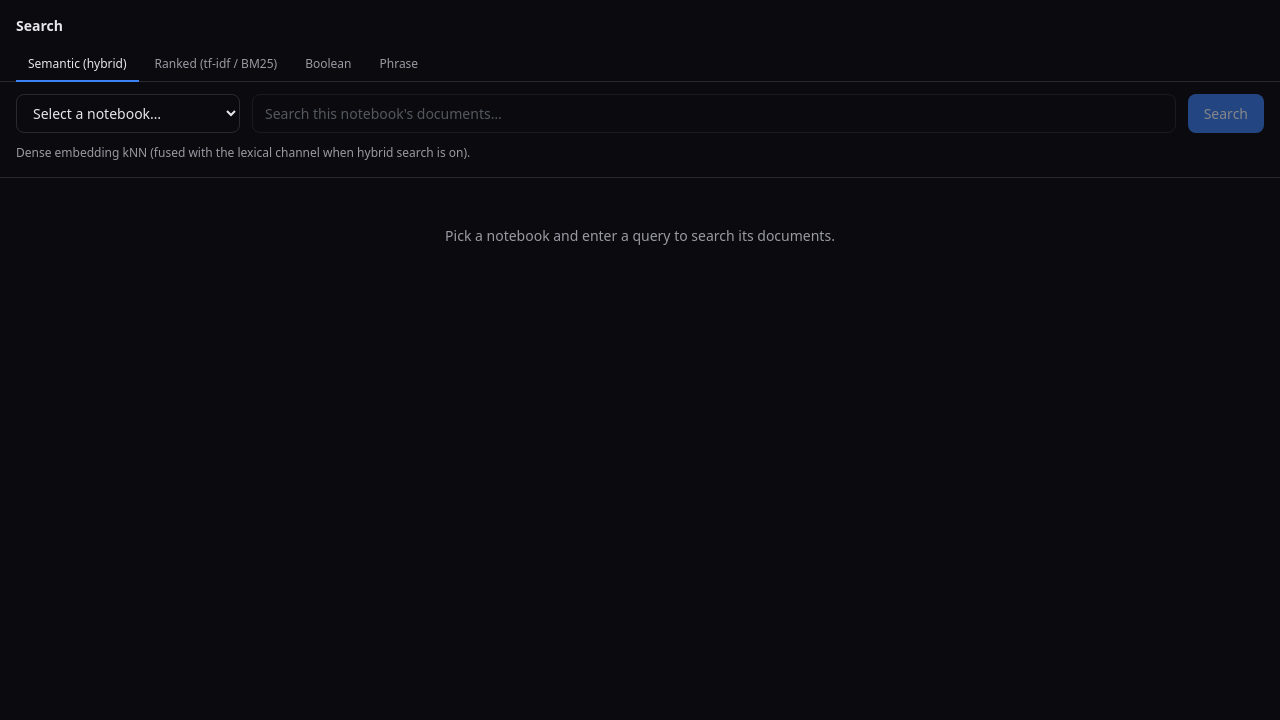
SearchPage › runs a Boolean query against /retrieval/sparse-search and shows the merge trace
Click the tab "Boolean": (328, 65) [293,48,363,82]
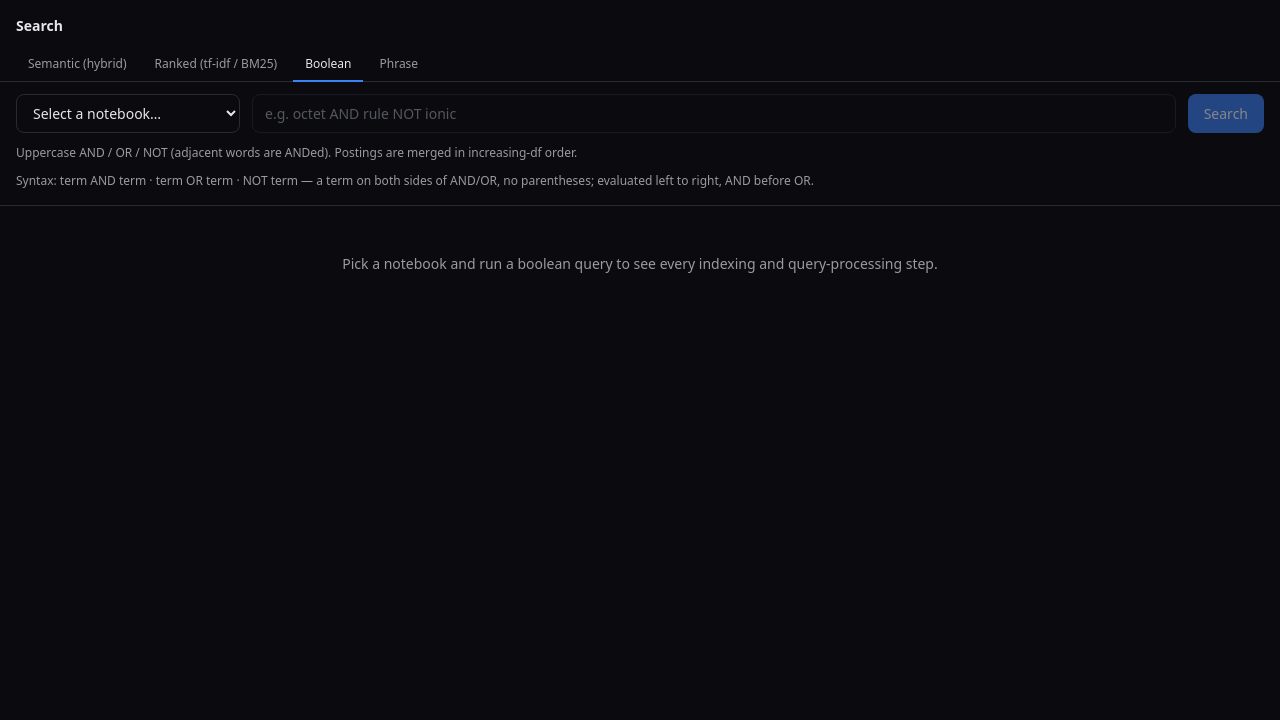
Expected: the text "Postings are merged in increasing-df order" is shown, [16,144,577,161]
Select "Chemistry" in the dropdown named "Notebook": (128, 114) [16,94,240,133]
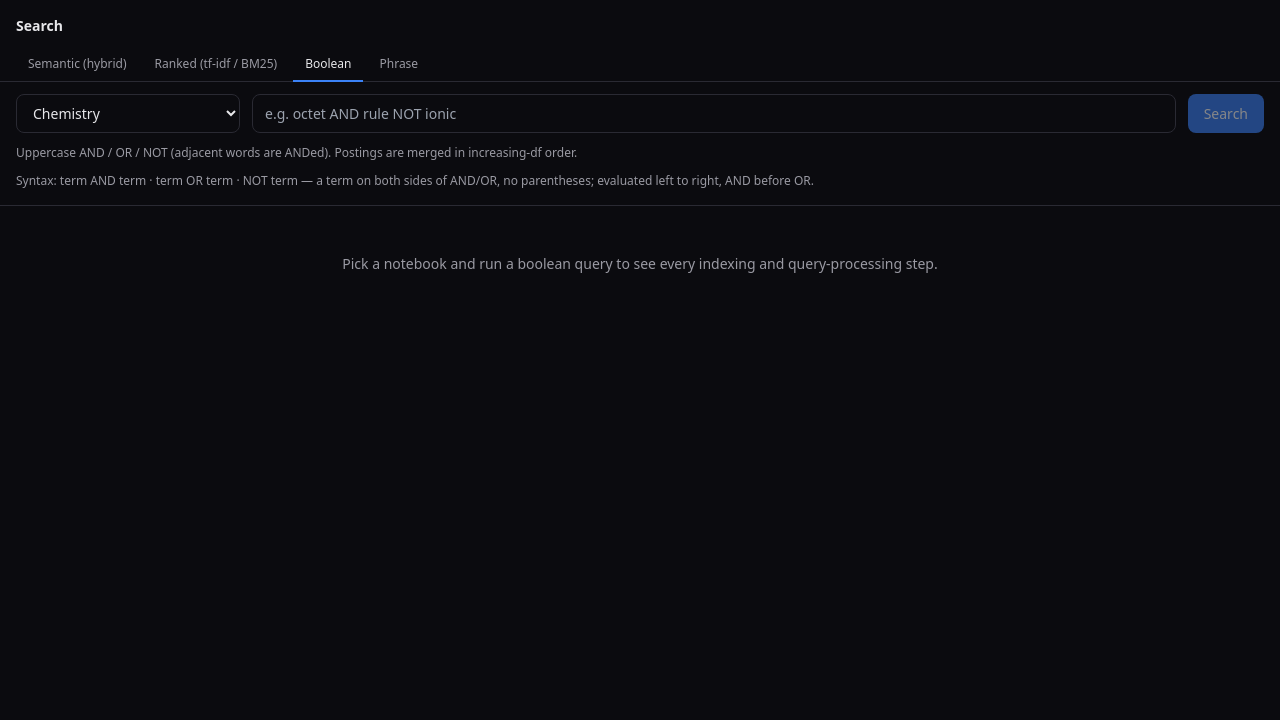
In the field named "Query": (714, 114) [252,94,1176,133], type "hydrogen AND bond NOT covalent"
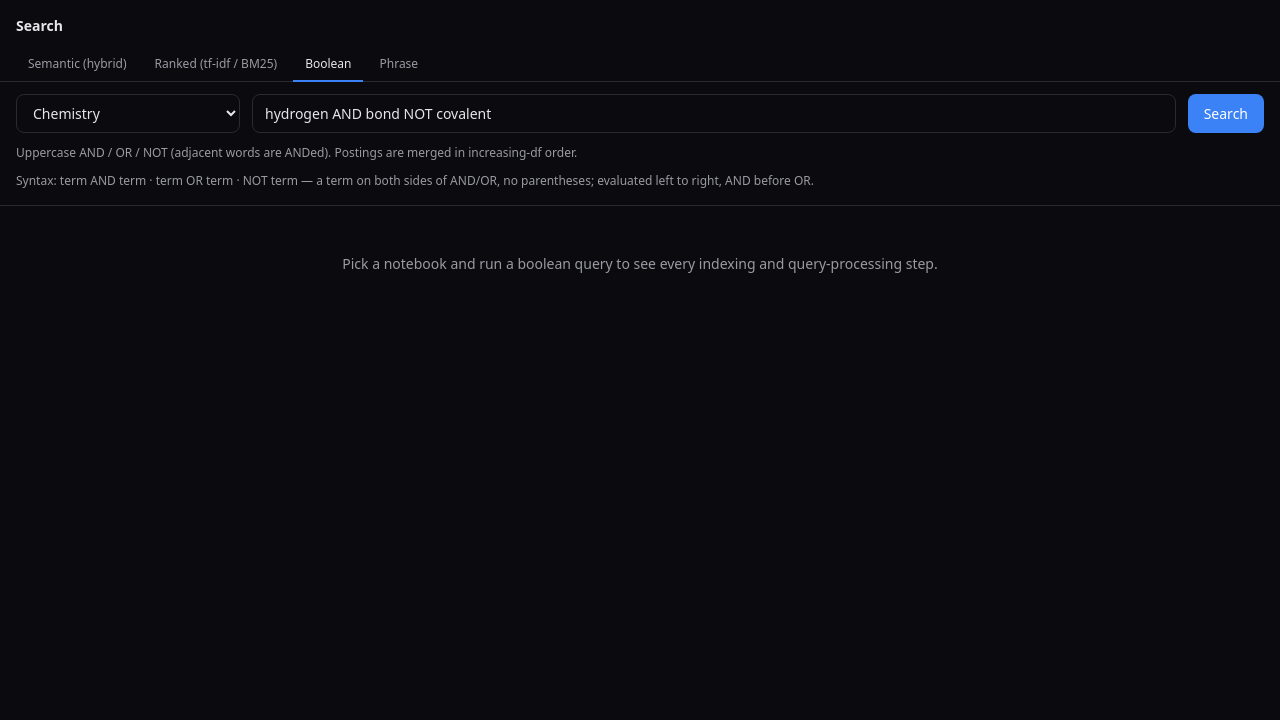
Click the button "Search": (1226, 114) [1188,94,1264,133]
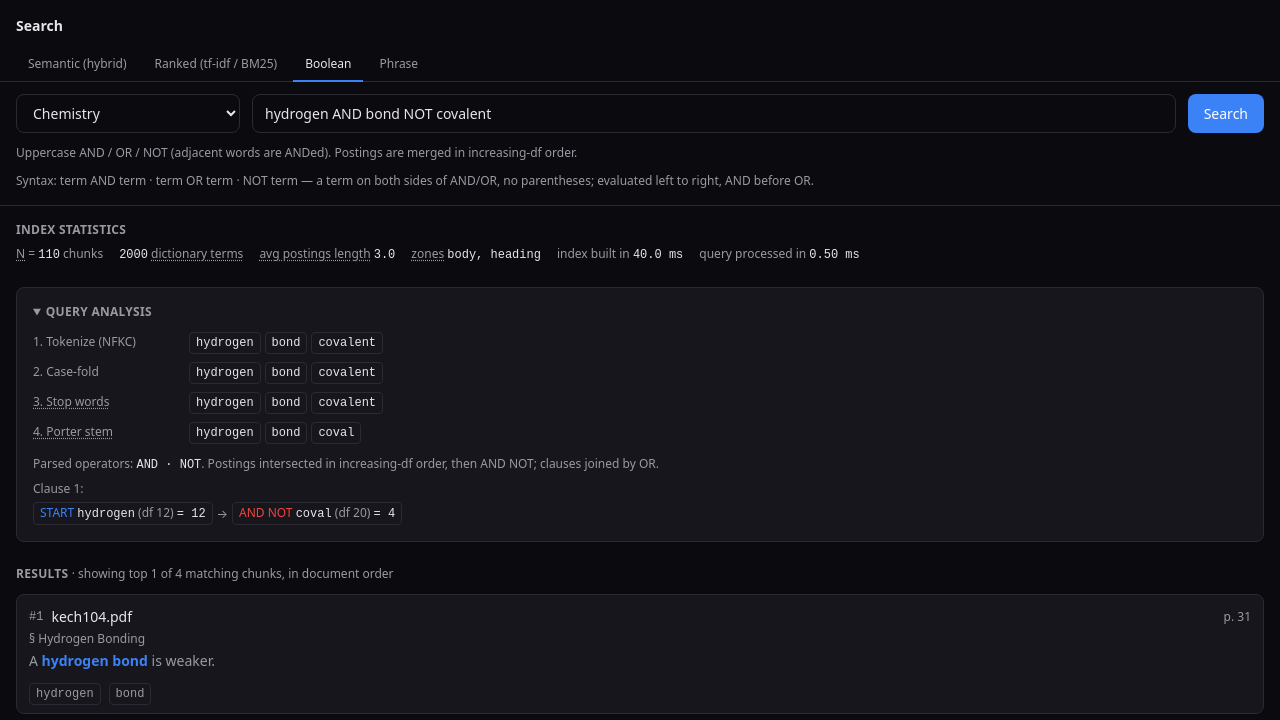
Expected: the heading "Query analysis" is shown, [46,303,152,320]
Expected: the list item "START hydrogen (df 12) = 12" is shown, [33,502,213,525]
Expected: the element named "Index statistics" shows "N = 110 chunks", [16,245,860,262]
Click the button with aria-label "Open source #1": (92, 616) [17,595,1263,683]
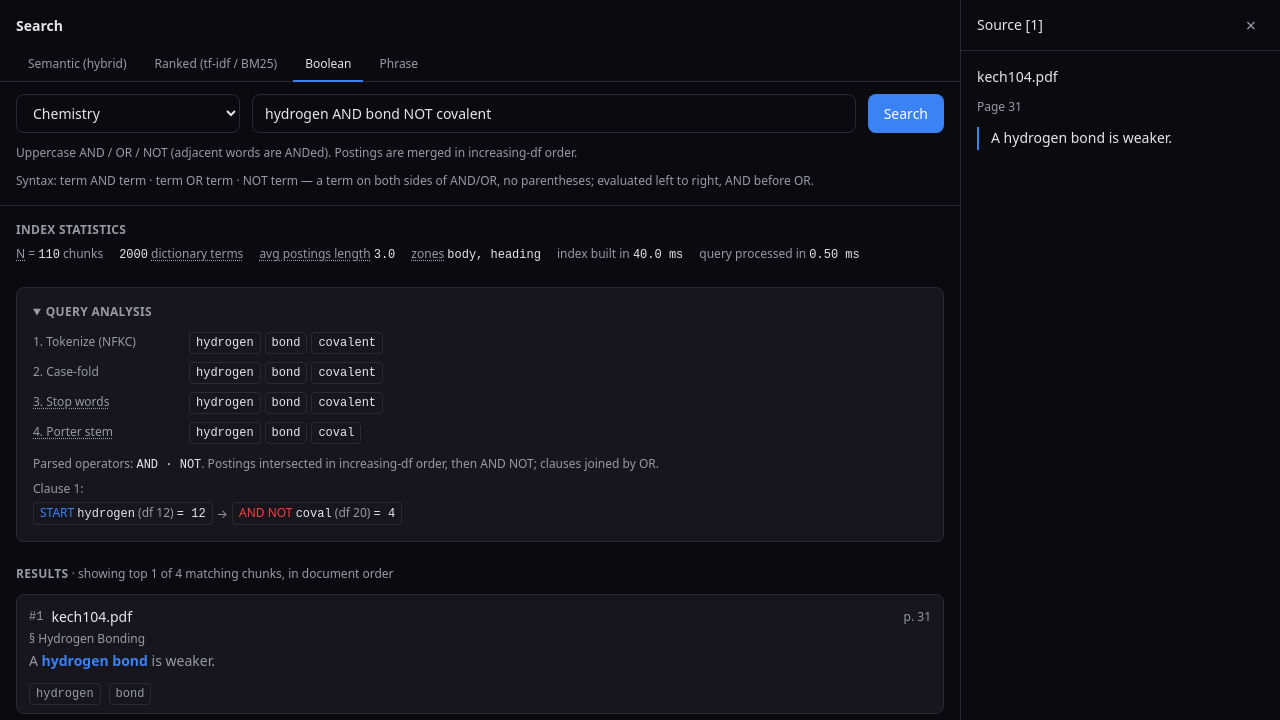
Expected: the text "Source [1]" is shown, [977,15,1043,35]
Expected: the text "Page 31" is shown, [977,98,1022,115]
